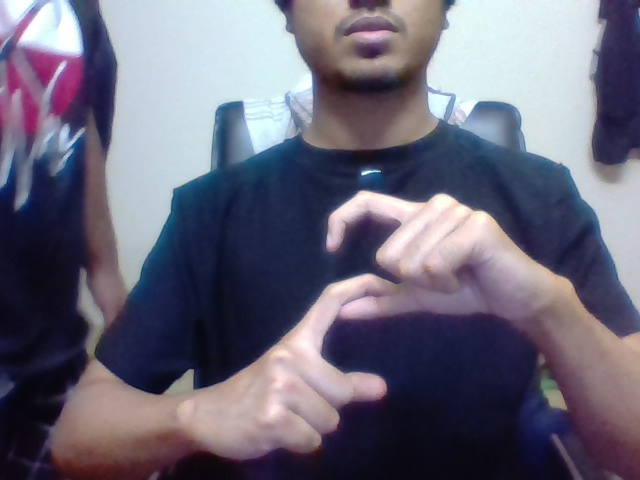S: (310, 187, 404, 405)
